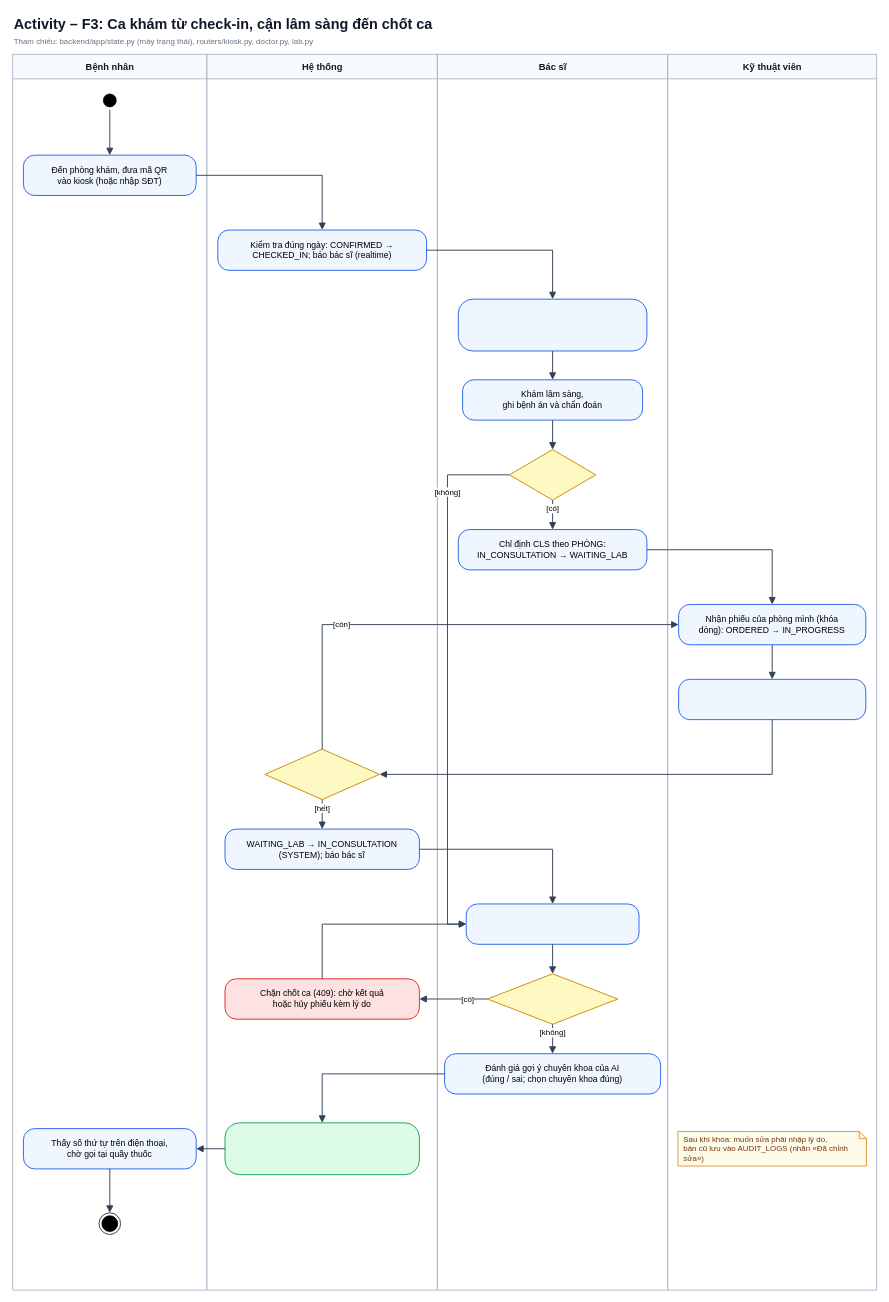
Some shapes in this 889 by 1302 pixel diagram are drawn without their labels. The shapes that lost their labels are listed below. From the top down, each one's centre as x and y in pixels, then its label:
At (x=552, y=324): "Mở ca (chỉ bác sĩ phụ trách): CHECKED_IN → IN_CONSULTATION, tạo bệnh án".
At (x=552, y=474): "Cần cận lâm sàng?".
At (x=772, y=699): "Tải kết quả, ghi nhận xét, bấm Hoàn thành (kết quả bị khóa)".
At (x=322, y=774): "Còn phiếu ORDERED / IN_PROGRESS?".
At (x=552, y=923): "Kê đơn thuốc (kiểm tra tự động – F4)".
At (x=552, y=998): "Còn phiếu CLS chưa xong hoặc chưa có chẩn đoán?".
At (x=322, y=1148): "Khóa bệnh án và đơn thuốc; IN_CONSULTATION → COMPLETED; cấp số thứ tự quầy thuốc".
